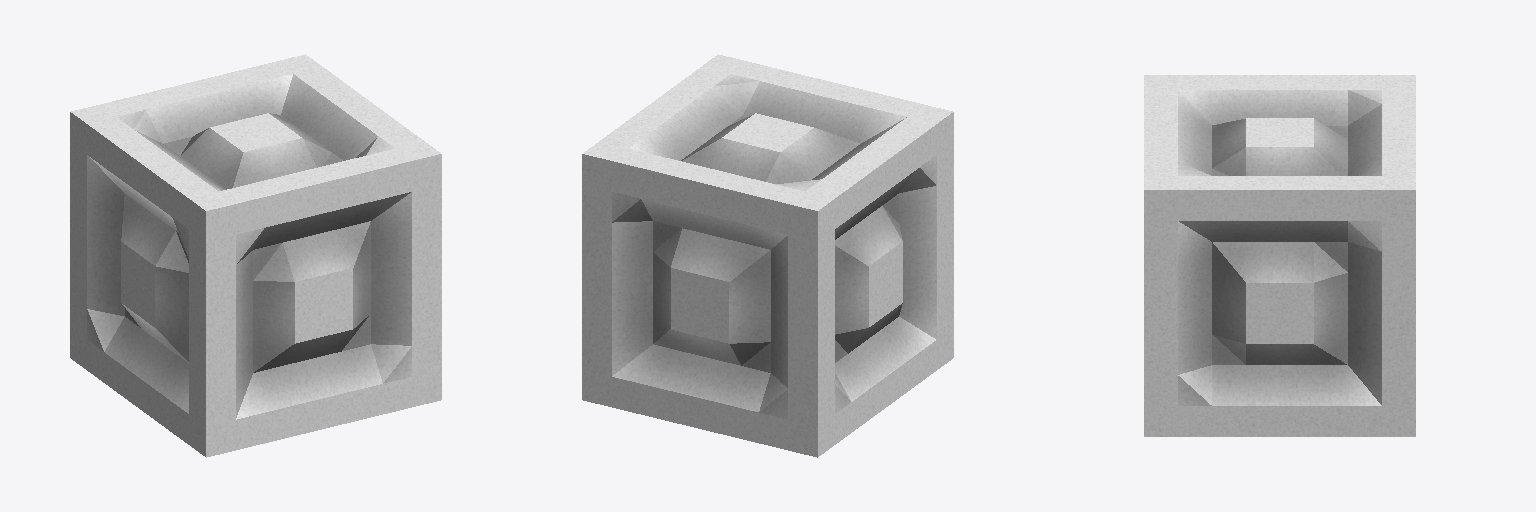
3 views of the same model, side by side, from view 1: azimuth 30°, elevation 25°; view 2: azimuth 150°, elevation 25°; view 3: azimuth 270°, elevation 25° (orthographic).
Visible parts, largest first — view 1: Plane; view 2: Plane; view 3: Plane.
Boxes of the visible parts, x1,y1,x2,y2 form: Plane: [70, 54, 441, 457]; Plane: [582, 54, 953, 457]; Plane: [1144, 75, 1415, 436].
Bounding box in the file's own units: 4 × 4 × 4.
1 materials, 1 textured.